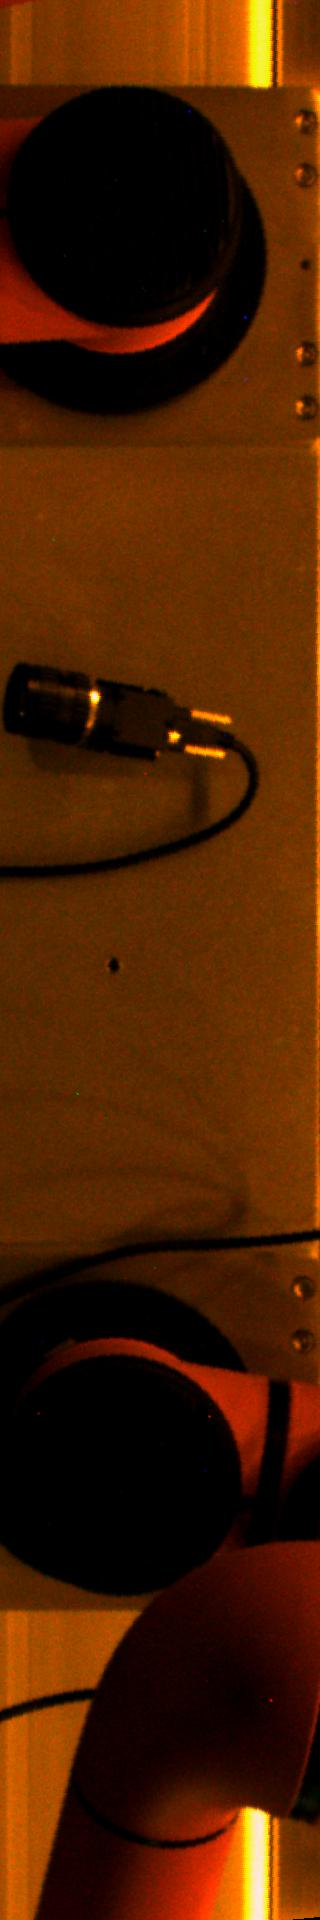keyPoint_2: (98, 950, 128, 980)
